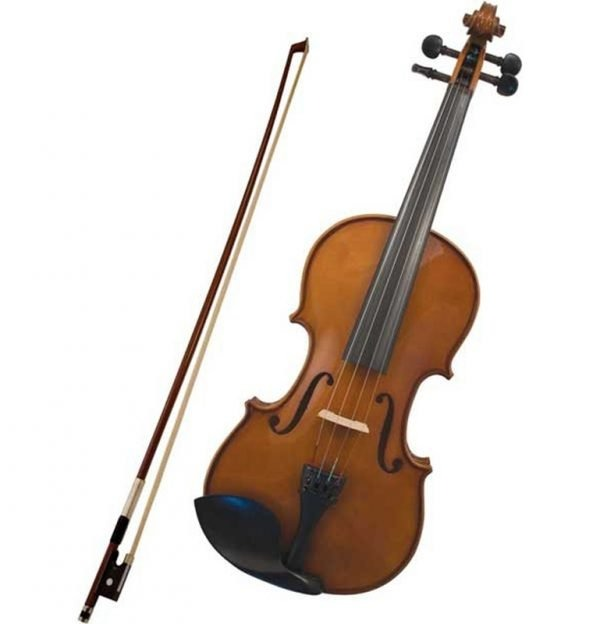Violin: (42, 17, 597, 624)
